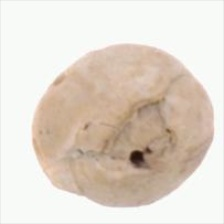L3: (97, 102, 170, 174)
L4: (31, 43, 214, 209)
